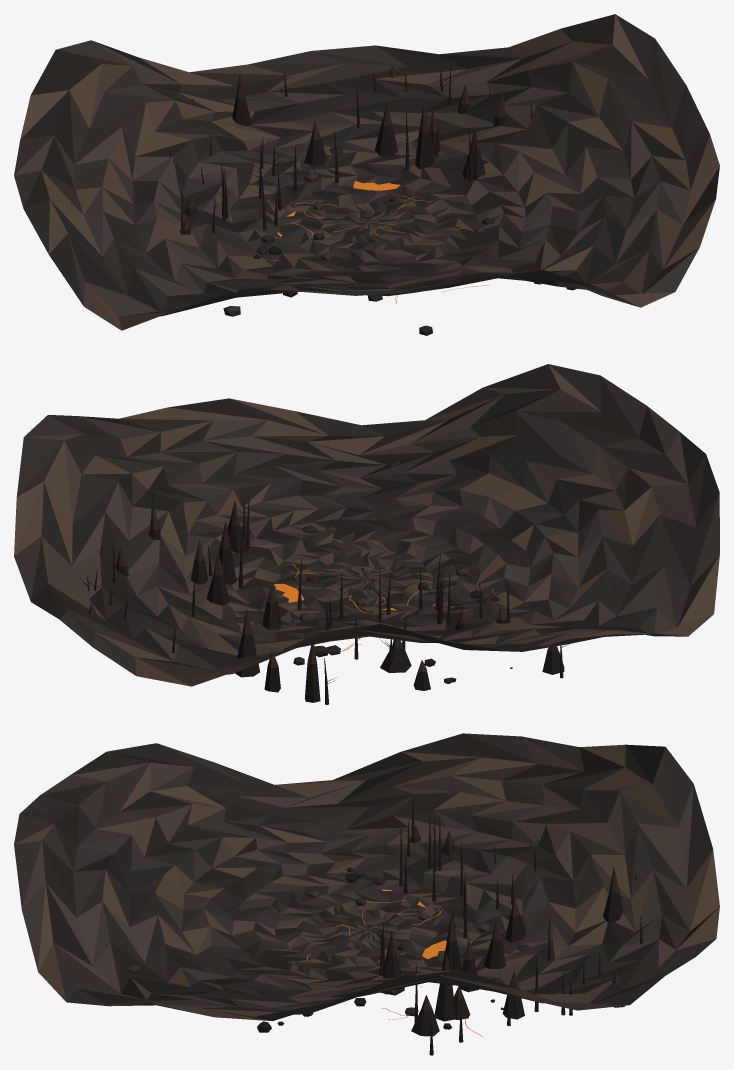
File: env_ashlands.glb
3 renders of one model, top to bottom at view 1: azimuth 30°, elevation 25°; view 2: azimuth 150°, elevation 25°; view 3: azimuth 270°, elevation 25°, orthographic.
Parts seen in each view (by area): view 1: ashlands, ashlands_glowing; view 2: ashlands, ashlands_glowing; view 3: ashlands, ashlands_glowing.
Part boxes in pixels (x1,y1,x2,y2): ashlands: (14, 14, 719, 335); ashlands_glowing: (266, 181, 490, 303); ashlands: (14, 364, 719, 704); ashlands_glowing: (274, 538, 498, 651); ashlands: (14, 733, 719, 1055); ashlands_glowing: (306, 872, 482, 1036).
Bounding box in the file's own units: 67.5 × 11.49 × 68.34.
